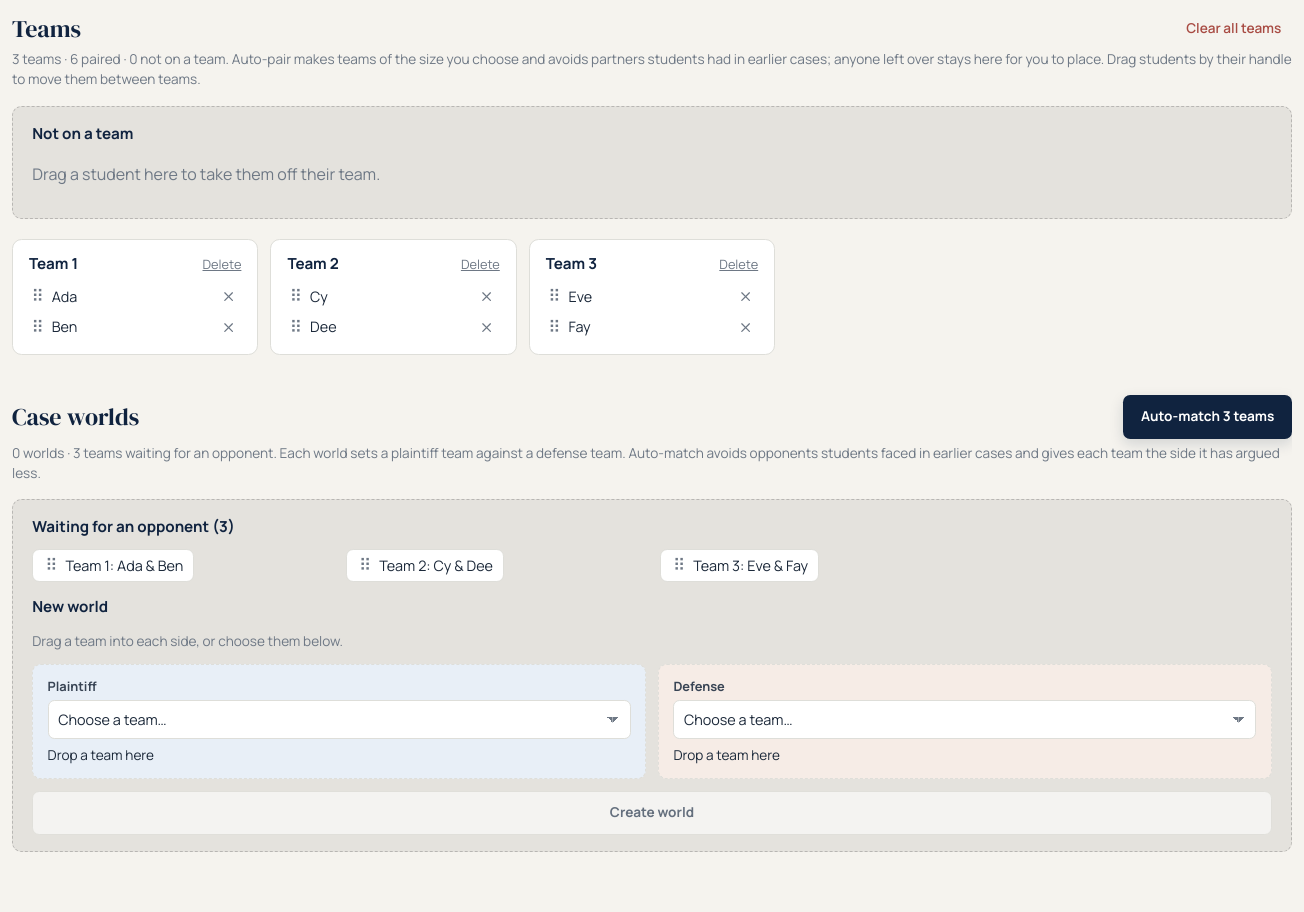
Scenario: case worlds › creates a world from chosen teams
The width and height of the screenshot is (1304, 912).
Expected: the button "Create world" is disabled, [32,791,1272,835]
Select "Team 1" in the dropdown labelled "Plaintiff" at (339, 720), box [48,700,631,739]
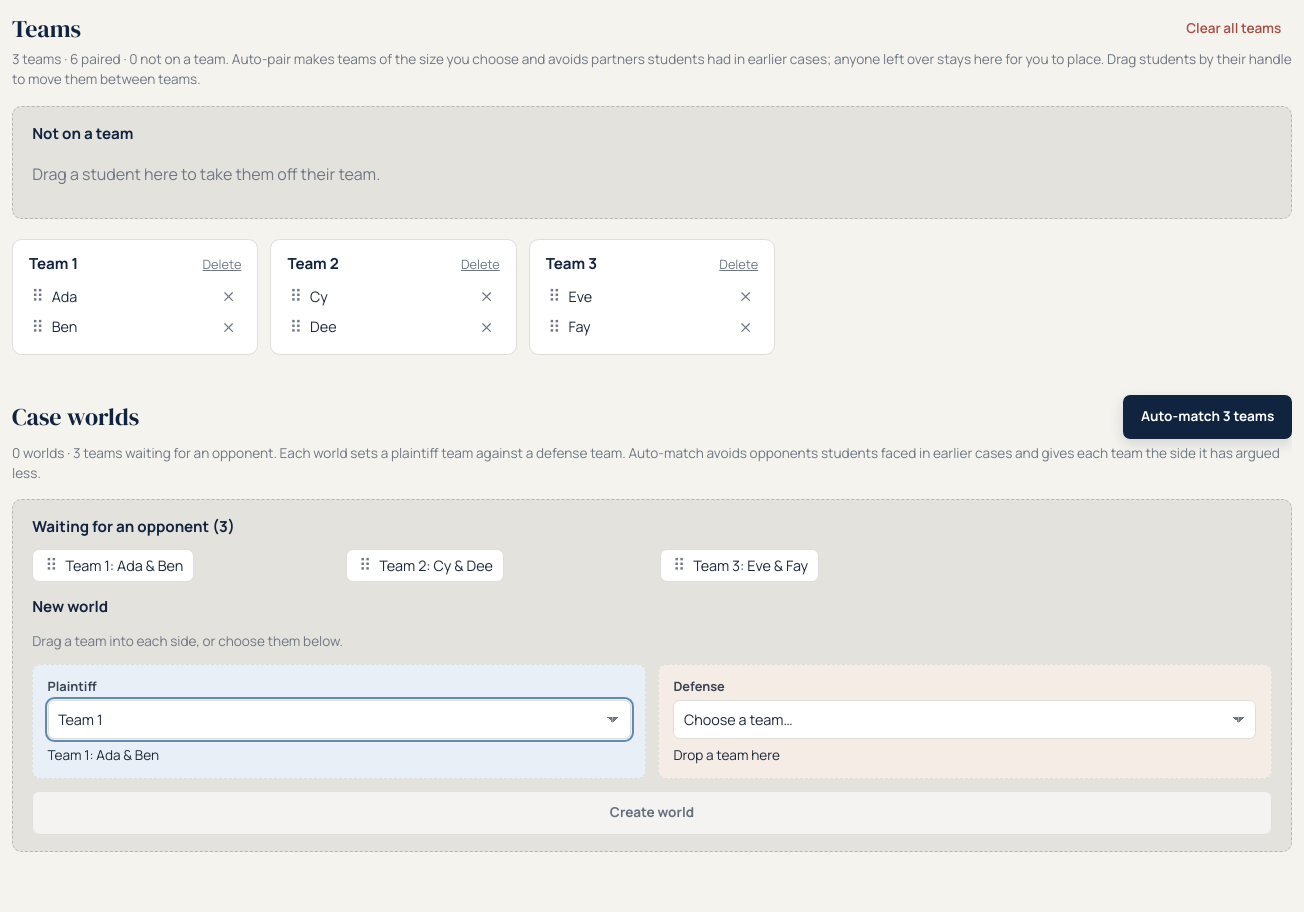
Select "Team 2" in the dropdown labelled "Defense" at (965, 720), box [673,700,1256,739]
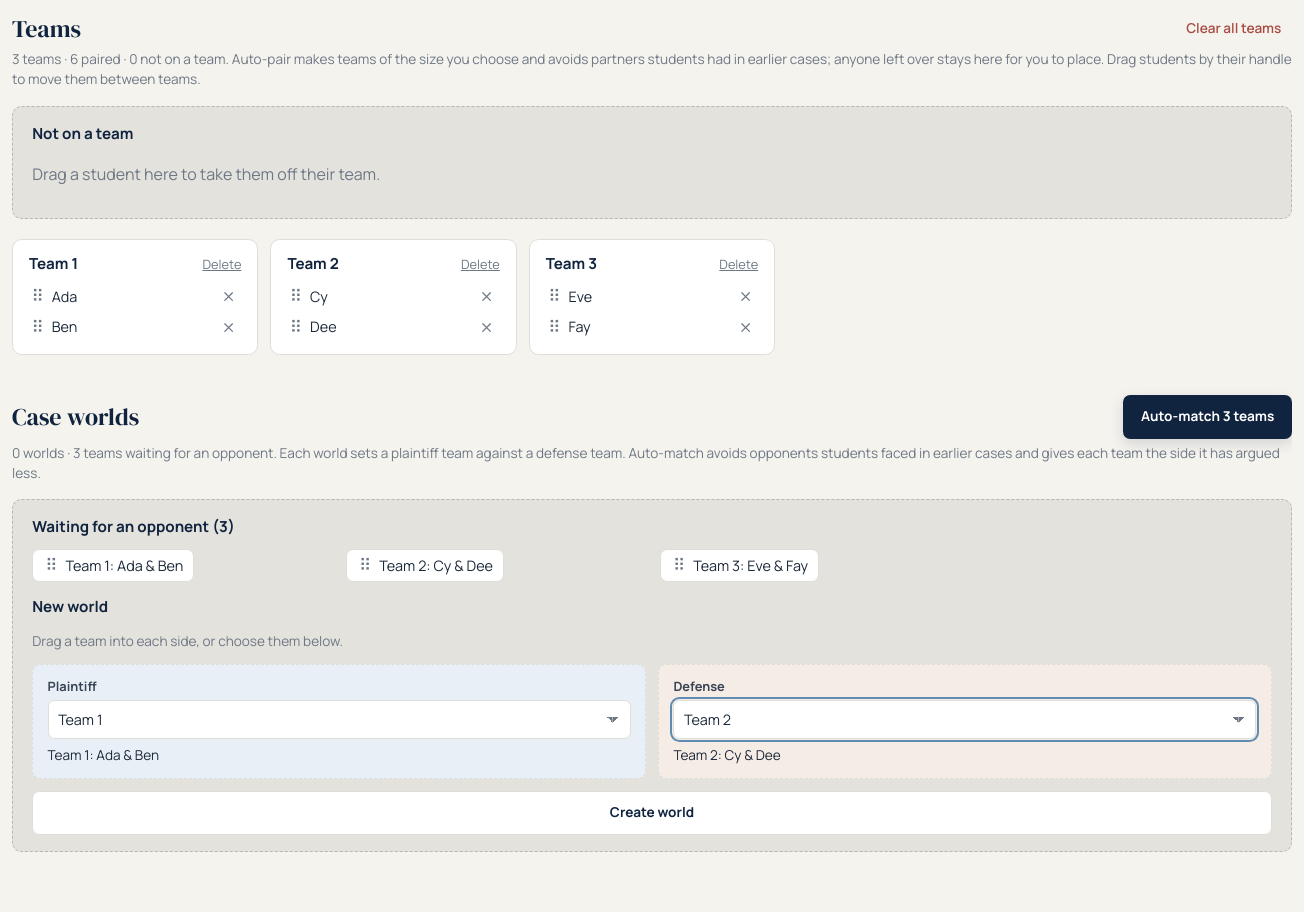
Click the button "Create world".
click(652, 813)  # box [32,791,1272,835]
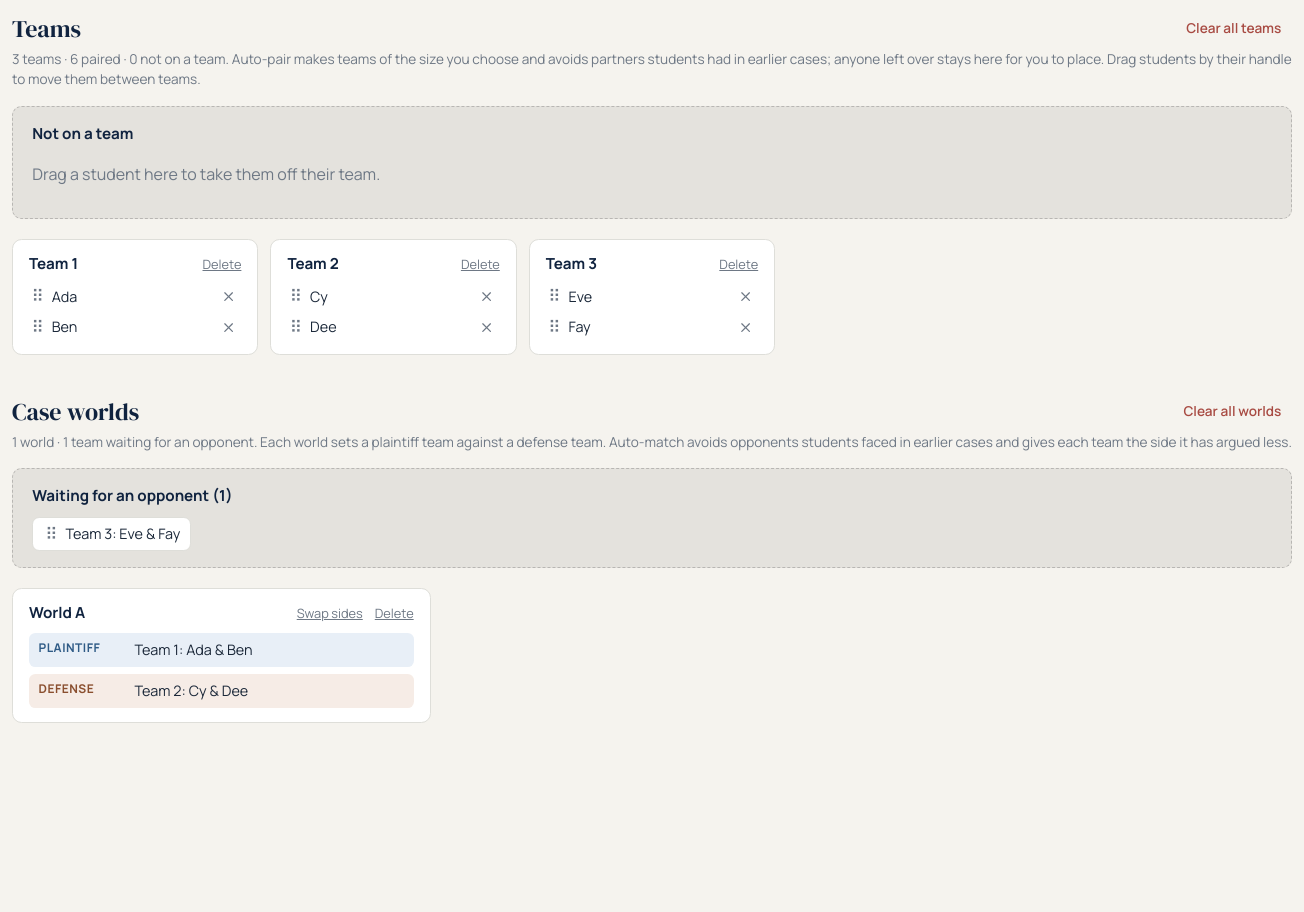
Expected: the list item "World A" is shown, [12,588,431,723]
